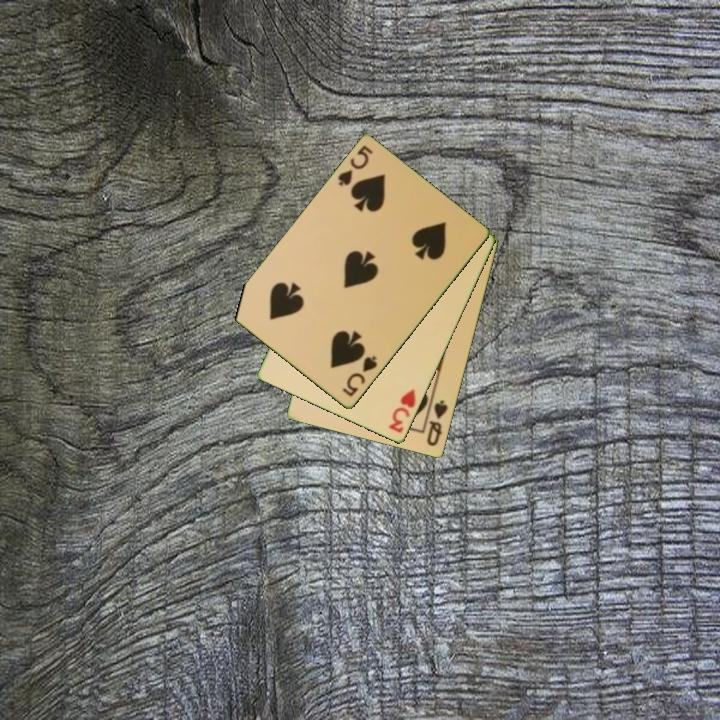3h: (385, 386, 419, 436)
5s: (338, 352, 380, 400), (334, 142, 376, 190)
Qs: (423, 397, 451, 450)
